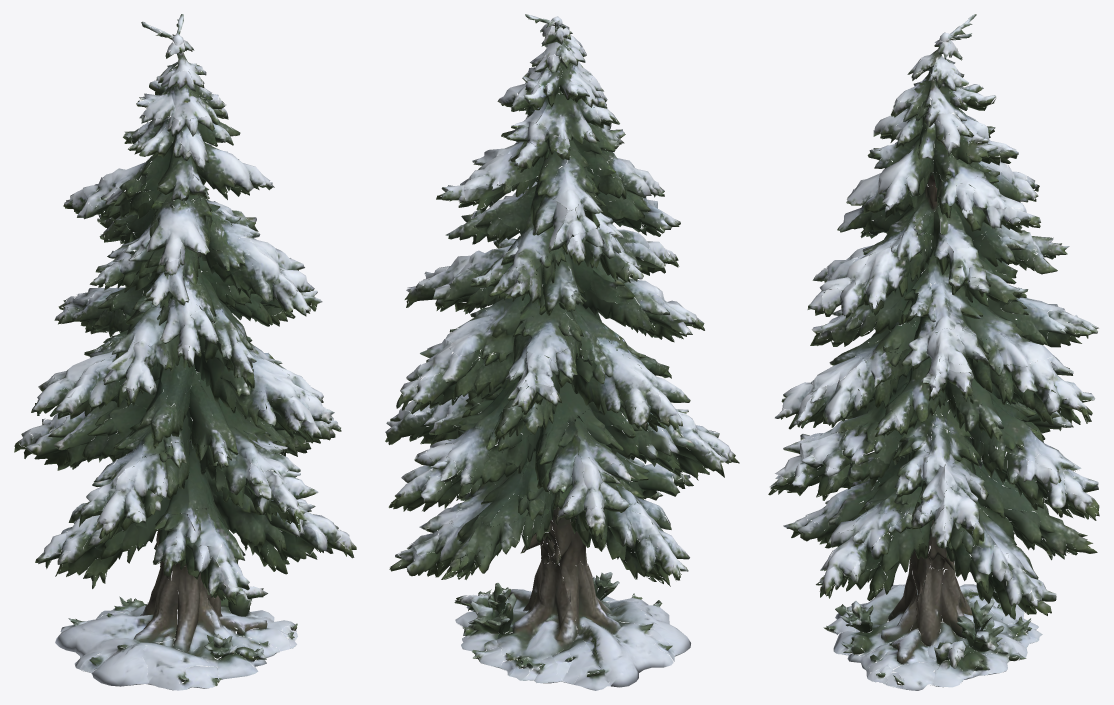
Rendered from frost-pine-tripo.glb.
3 renders of one model, left to right at view 1: azimuth 30°, elevation 25°; view 2: azimuth 150°, elevation 25°; view 3: azimuth 270°, elevation 25°, orthographic. The views are drawn at different scales.
Parts seen in each view (by area): view 1: tripo_node_4dff96a8-b92d-4a5c-89b3-3a59b305881e; view 2: tripo_node_4dff96a8-b92d-4a5c-89b3-3a59b305881e; view 3: tripo_node_4dff96a8-b92d-4a5c-89b3-3a59b305881e.
Boxes of the visible parts, x1,y1,x2,y2 form: tripo_node_4dff96a8-b92d-4a5c-89b3-3a59b305881e: (14, 14, 356, 690); tripo_node_4dff96a8-b92d-4a5c-89b3-3a59b305881e: (385, 14, 739, 690); tripo_node_4dff96a8-b92d-4a5c-89b3-3a59b305881e: (768, 14, 1099, 690).
Size of the model in its own units: 0.5083 by 1 by 0.4866.
1 material, 1 textured.
